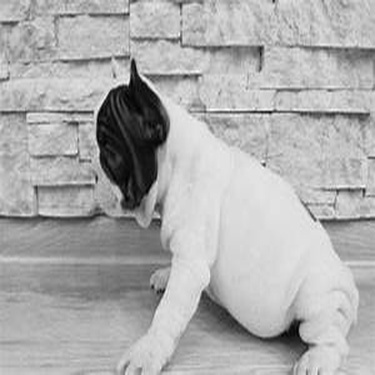dog: (78, 38, 366, 373)
